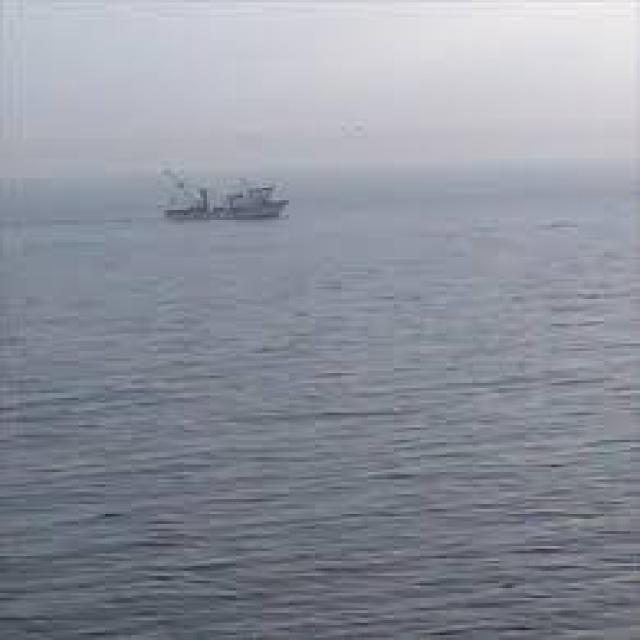fishing boat: (160, 167, 288, 220)
